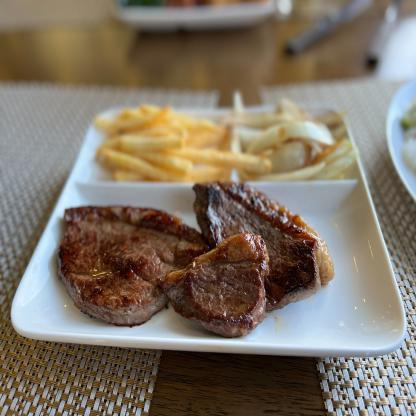Carne: (180, 182, 346, 297), (53, 198, 194, 324), (169, 235, 278, 338)
